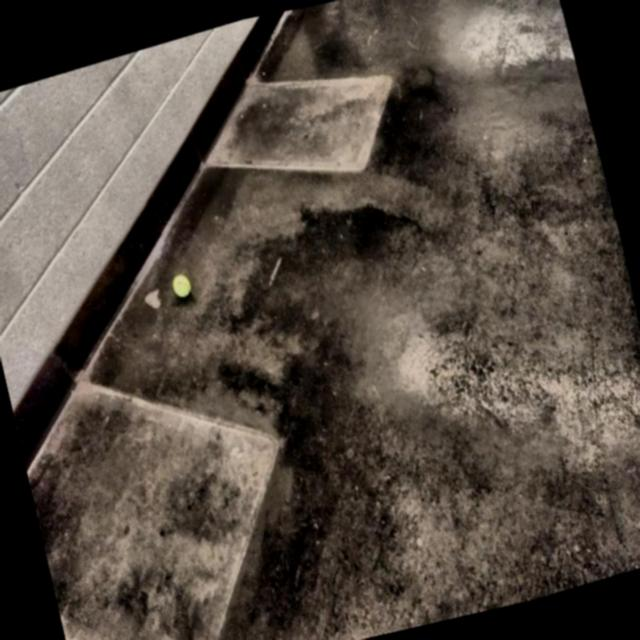tennis-ball: (165, 265, 198, 304)
